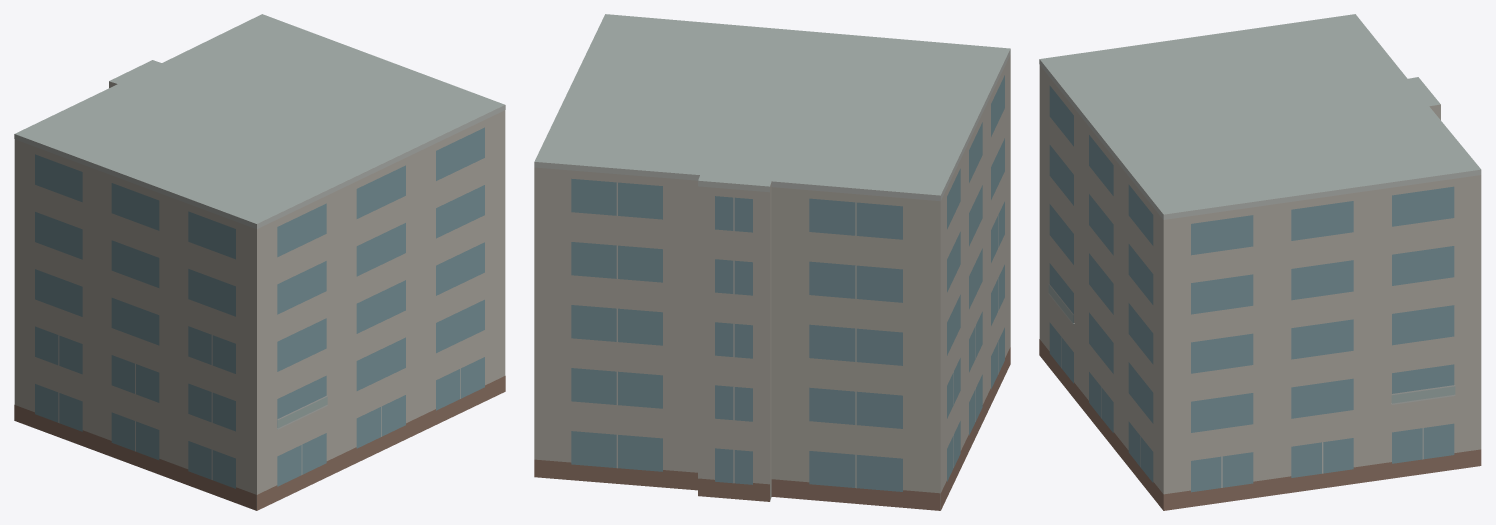
Rendered from survey-upis-32708768.glb.
3 renders of one model, left to right at view 1: azimuth 30°, elevation 25°; view 2: azimuth 150°, elevation 25°; view 3: azimuth 270°, elevation 25°, orthographic. The views are drawn at different scales.
Parts seen in each view (by area): view 1: survey-upis-32708768.tmp; view 2: survey-upis-32708768.tmp; view 3: survey-upis-32708768.tmp.
Part boxes in pixels (<box>): survey-upis-32708768.tmp: <box>14,14,505,510</box>; survey-upis-32708768.tmp: <box>534,14,1010,510</box>; survey-upis-32708768.tmp: <box>1039,14,1481,510</box>.
Size of the model in its own units: 19.62 by 13.5 by 18.26.
